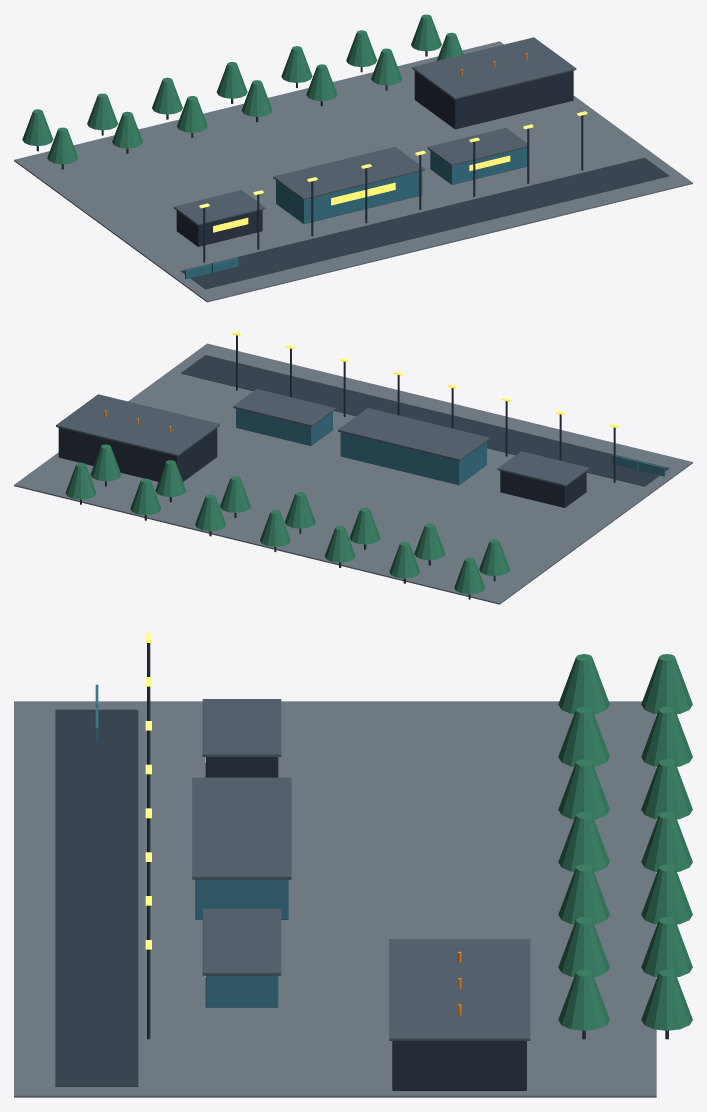
The model's file is support-facilities-high.glb.
The picture shows the model from 3 angles, top to bottom: view 1: azimuth 30°, elevation 25°; view 2: azimuth 150°, elevation 25°; view 3: azimuth 270°, elevation 25°; orthographic projection. The views are drawn at different scales.
Parts seen in each view (by area): view 1: support_ground, access_road, substation_roof, substation_body, rest_room_roof, rest_room_body, public_toilet_roof, guardhouse_roof, public_toilet_body, guardhouse_body, tree_canopy.013, tree_canopy.003 (+13 smaller); view 2: support_ground, access_road, substation_roof, substation_body, rest_room_roof, rest_room_body, public_toilet_roof, public_toilet_body, guardhouse_body, guardhouse_roof, tree_canopy.002, tree_canopy.001 (+12 smaller); view 3: support_ground, access_road, substation_roof, rest_room_roof, substation_body, public_toilet_roof, guardhouse_roof, rest_room_body, public_toilet_body, tree_canopy.013, tree_canopy.006, tree_canopy.001 (+12 smaller).
Boxes of the visible parts, x1,y1,x2,y2 form: support_ground: (14,41,692,302); access_road: (181,157,669,289); substation_roof: (412,37,576,99); substation_body: (414,70,573,129); rest_room_roof: (273,147,424,199); rest_room_body: (276,171,422,223); public_toilet_roof: (427,128,529,165); guardhouse_roof: (174,190,265,225); public_toilet_body: (430,147,527,184); guardhouse_body: (176,210,262,246); tree_canopy.013: (411,14,441,51); tree_canopy.003: (241,80,272,116); support_ground: (14,343,692,604); access_road: (180,355,669,486); substation_roof: (56,394,219,456); substation_body: (58,428,217,481); rest_room_roof: (338,408,489,461); rest_room_body: (340,432,486,485); public_toilet_roof: (233,389,335,426); public_toilet_body: (236,408,332,445); guardhouse_body: (500,471,586,507); guardhouse_roof: (497,451,589,486); tree_canopy.002: (349,507,380,544); tree_canopy.001: (414,523,445,560); support_ground: (14,701,656,1097); access_road: (55,709,138,1086); substation_roof: (389,939,530,1040); rest_room_roof: (192,777,291,879); substation_body: (392,1041,526,1090); public_toilet_roof: (202,908,281,975); guardhouse_roof: (202,699,281,756); rest_room_body: (195,879,288,919); public_toilet_body: (205,975,278,1007); tree_canopy.013: (641,969,692,1030); tree_canopy.006: (558,969,609,1030); tree_canopy.001: (558,706,609,766).
Bounding box in the file's own units: 90 × 10.38 × 65.5.
